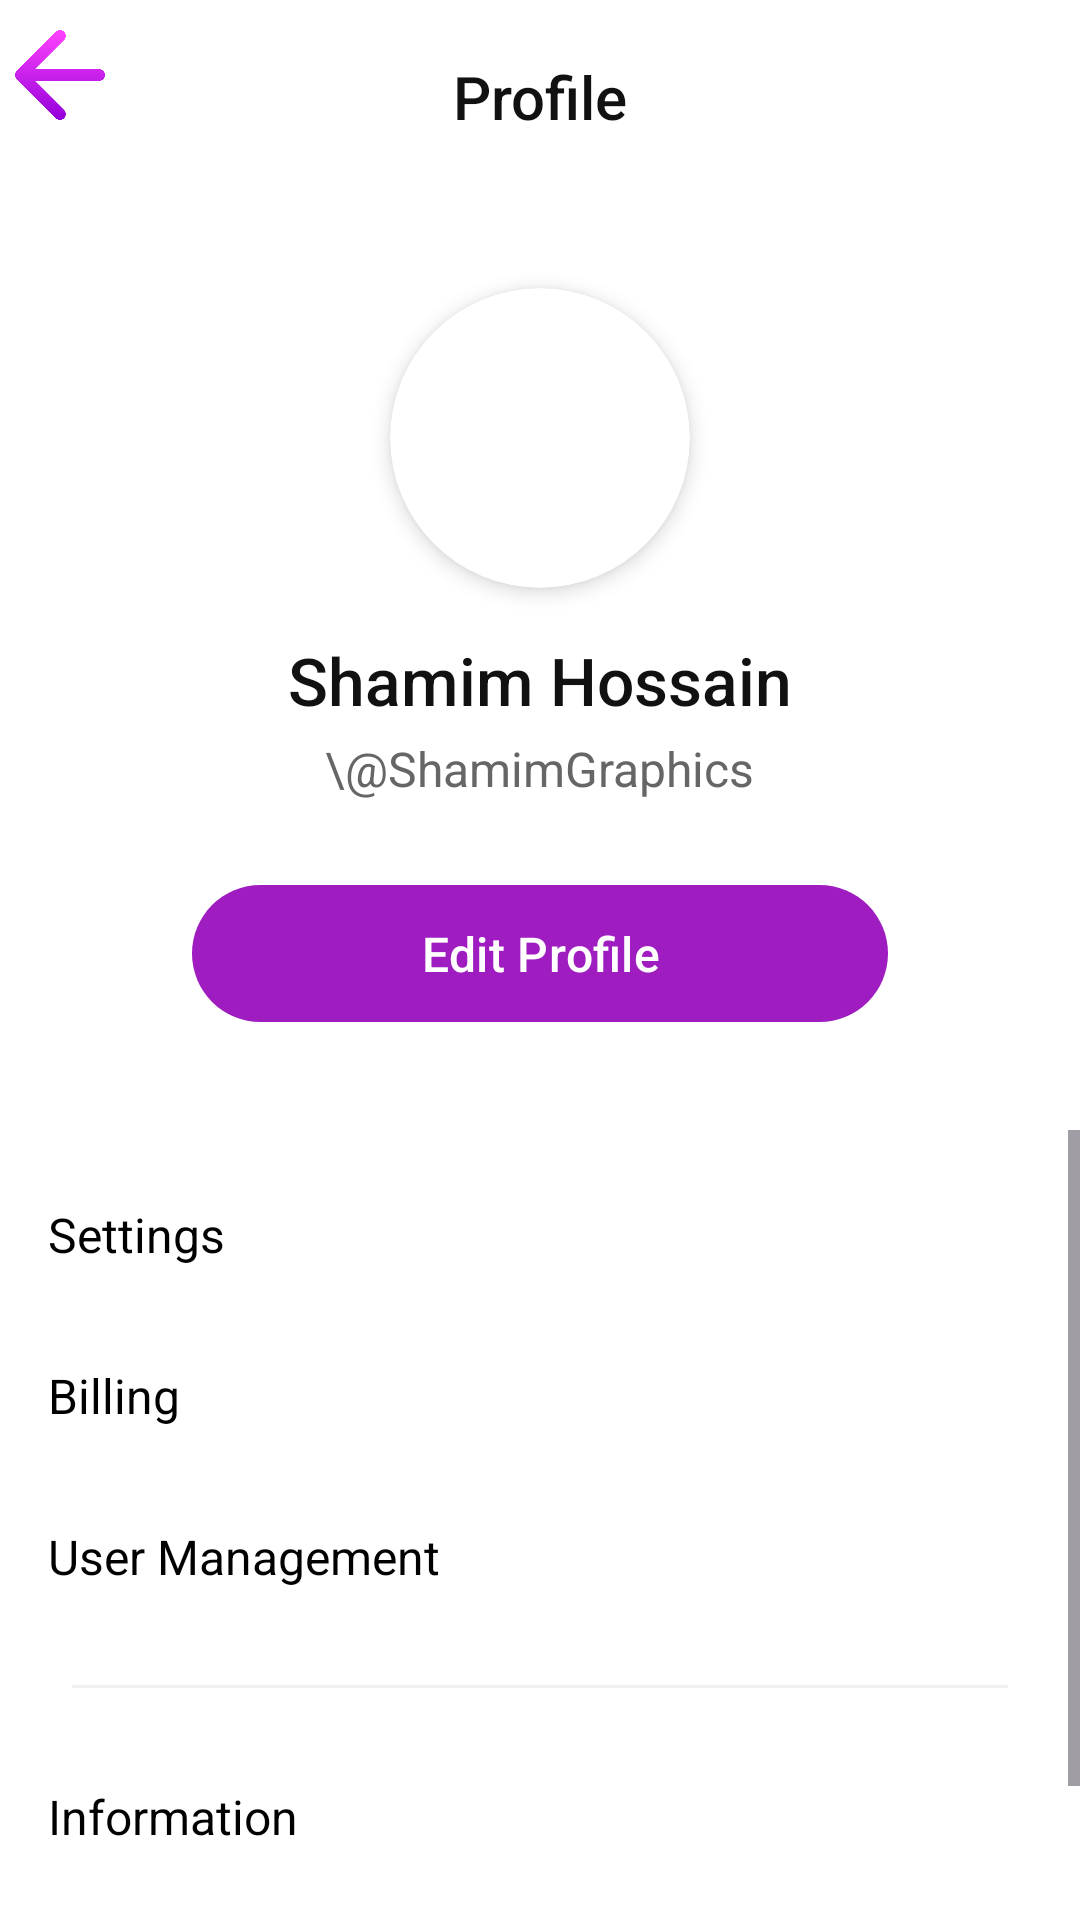

Icons on this 1080×1920 Android screen, each with its box as (x1=x1, y1=y1, x2=x2, y2=y2):
Back: (x1=15, y1=30, x2=105, y2=120)
